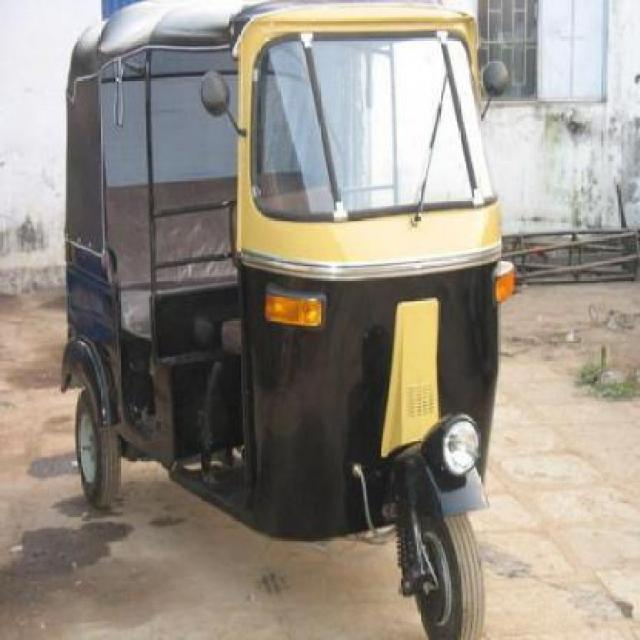vehicle: (49, 5, 547, 638)
